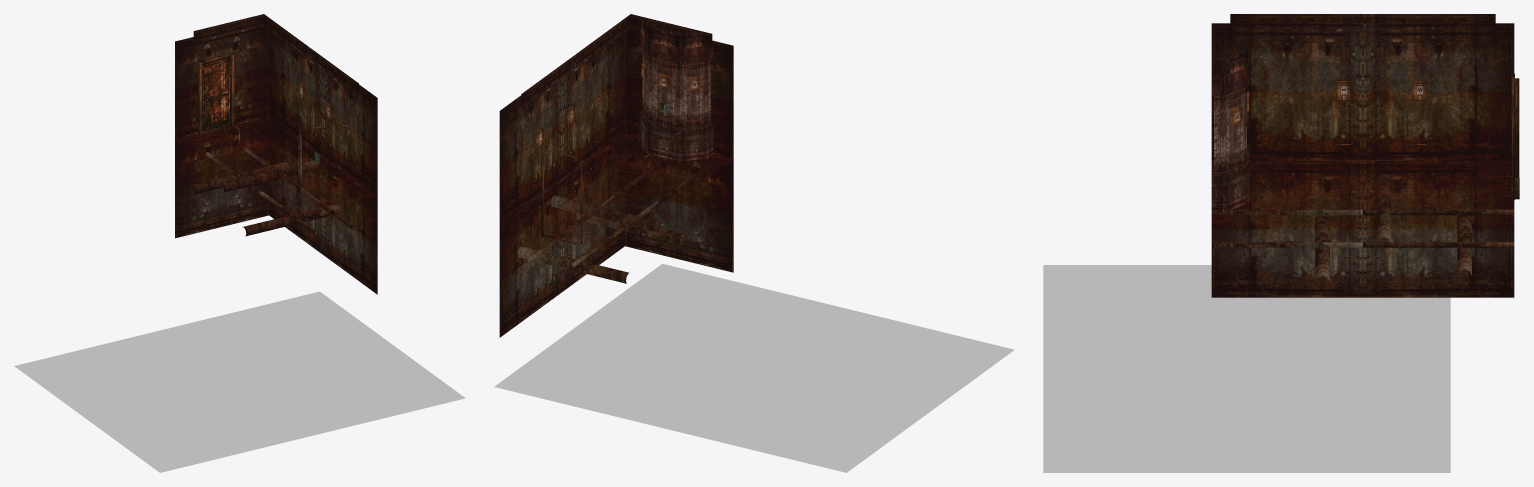
File: ERFCFC.glb
3 renders of one model, left to right at view 1: azimuth 30°, elevation 25°; view 2: azimuth 150°, elevation 25°; view 3: azimuth 270°, elevation 25°, orthographic. The views are drawn at different scales.
Parts seen in each view (by area): view 1: STONE1_H_m0, NL_BACK_m2, NL_BACK2_m1, NL_BACK_m1, NL_BACK_m0, NL_BACK2_m3, NL_BACK2_m2, NL_m0, NL_BACK2_m4; view 2: STONE1_H_m0, NL_BACK_m2, NL_BACK2_m1, NL_BACK2_m0, NL_m0, NL_BACK_m1, NL_BACK_m3, NL_BACK2_m3, NL_BACK2_m2, NL_BACK2_m4, NL_BACK_m0; view 3: STONE1_H_m0, NL_BACK_m3, NL_BACK2_m0, NL_BACK_m1, NL_m0, NL_BACK2_m2, NL_BACK2_m4, NL_BACK2_m3, NL_BACK_m0.
Part boxes in pixels (<box>): STONE1_H_m0: <box>14,152,465,472</box>; NL_BACK_m2: <box>175,14,377,195</box>; NL_BACK2_m1: <box>175,117,377,294</box>; NL_BACK_m1: <box>176,117,377,219</box>; NL_BACK_m0: <box>198,52,234,134</box>; NL_BACK2_m3: <box>192,162,340,236</box>; NL_BACK2_m2: <box>221,147,354,229</box>; NL_m0: <box>207,83,332,214</box>; NL_BACK2_m4: <box>205,152,316,234</box>; STONE1_H_m0: <box>494,104,1014,472</box>; NL_BACK_m2: <box>499,14,630,223</box>; NL_BACK2_m1: <box>499,133,624,337</box>; NL_BACK2_m0: <box>625,133,733,272</box>; NL_m0: <box>536,17,713,174</box>; NL_BACK_m1: <box>500,133,732,250</box>; NL_BACK_m3: <box>625,14,733,158</box>; NL_BACK2_m3: <box>517,212,688,283</box>; NL_BACK2_m2: <box>526,167,662,262</box>; NL_BACK2_m4: <box>570,173,698,267</box>; NL_BACK_m0: <box>540,148,582,245</box>; STONE1_H_m0: <box>1043,265,1450,472</box>; NL_BACK_m3: <box>1211,14,1514,160</box>; NL_BACK2_m0: <box>1211,160,1514,297</box>; NL_BACK_m1: <box>1211,160,1514,224</box>; NL_m0: <box>1211,48,1426,212</box>; NL_BACK2_m2: <box>1211,173,1514,247</box>; NL_BACK2_m4: <box>1211,209,1514,215</box>; NL_BACK2_m3: <box>1315,205,1471,281</box>; NL_BACK_m0: <box>1512,73,1519,200</box>.
Size of the model in its own units: 10.4 by 8.95 by 10.06.
11 materials, 10 textured.
